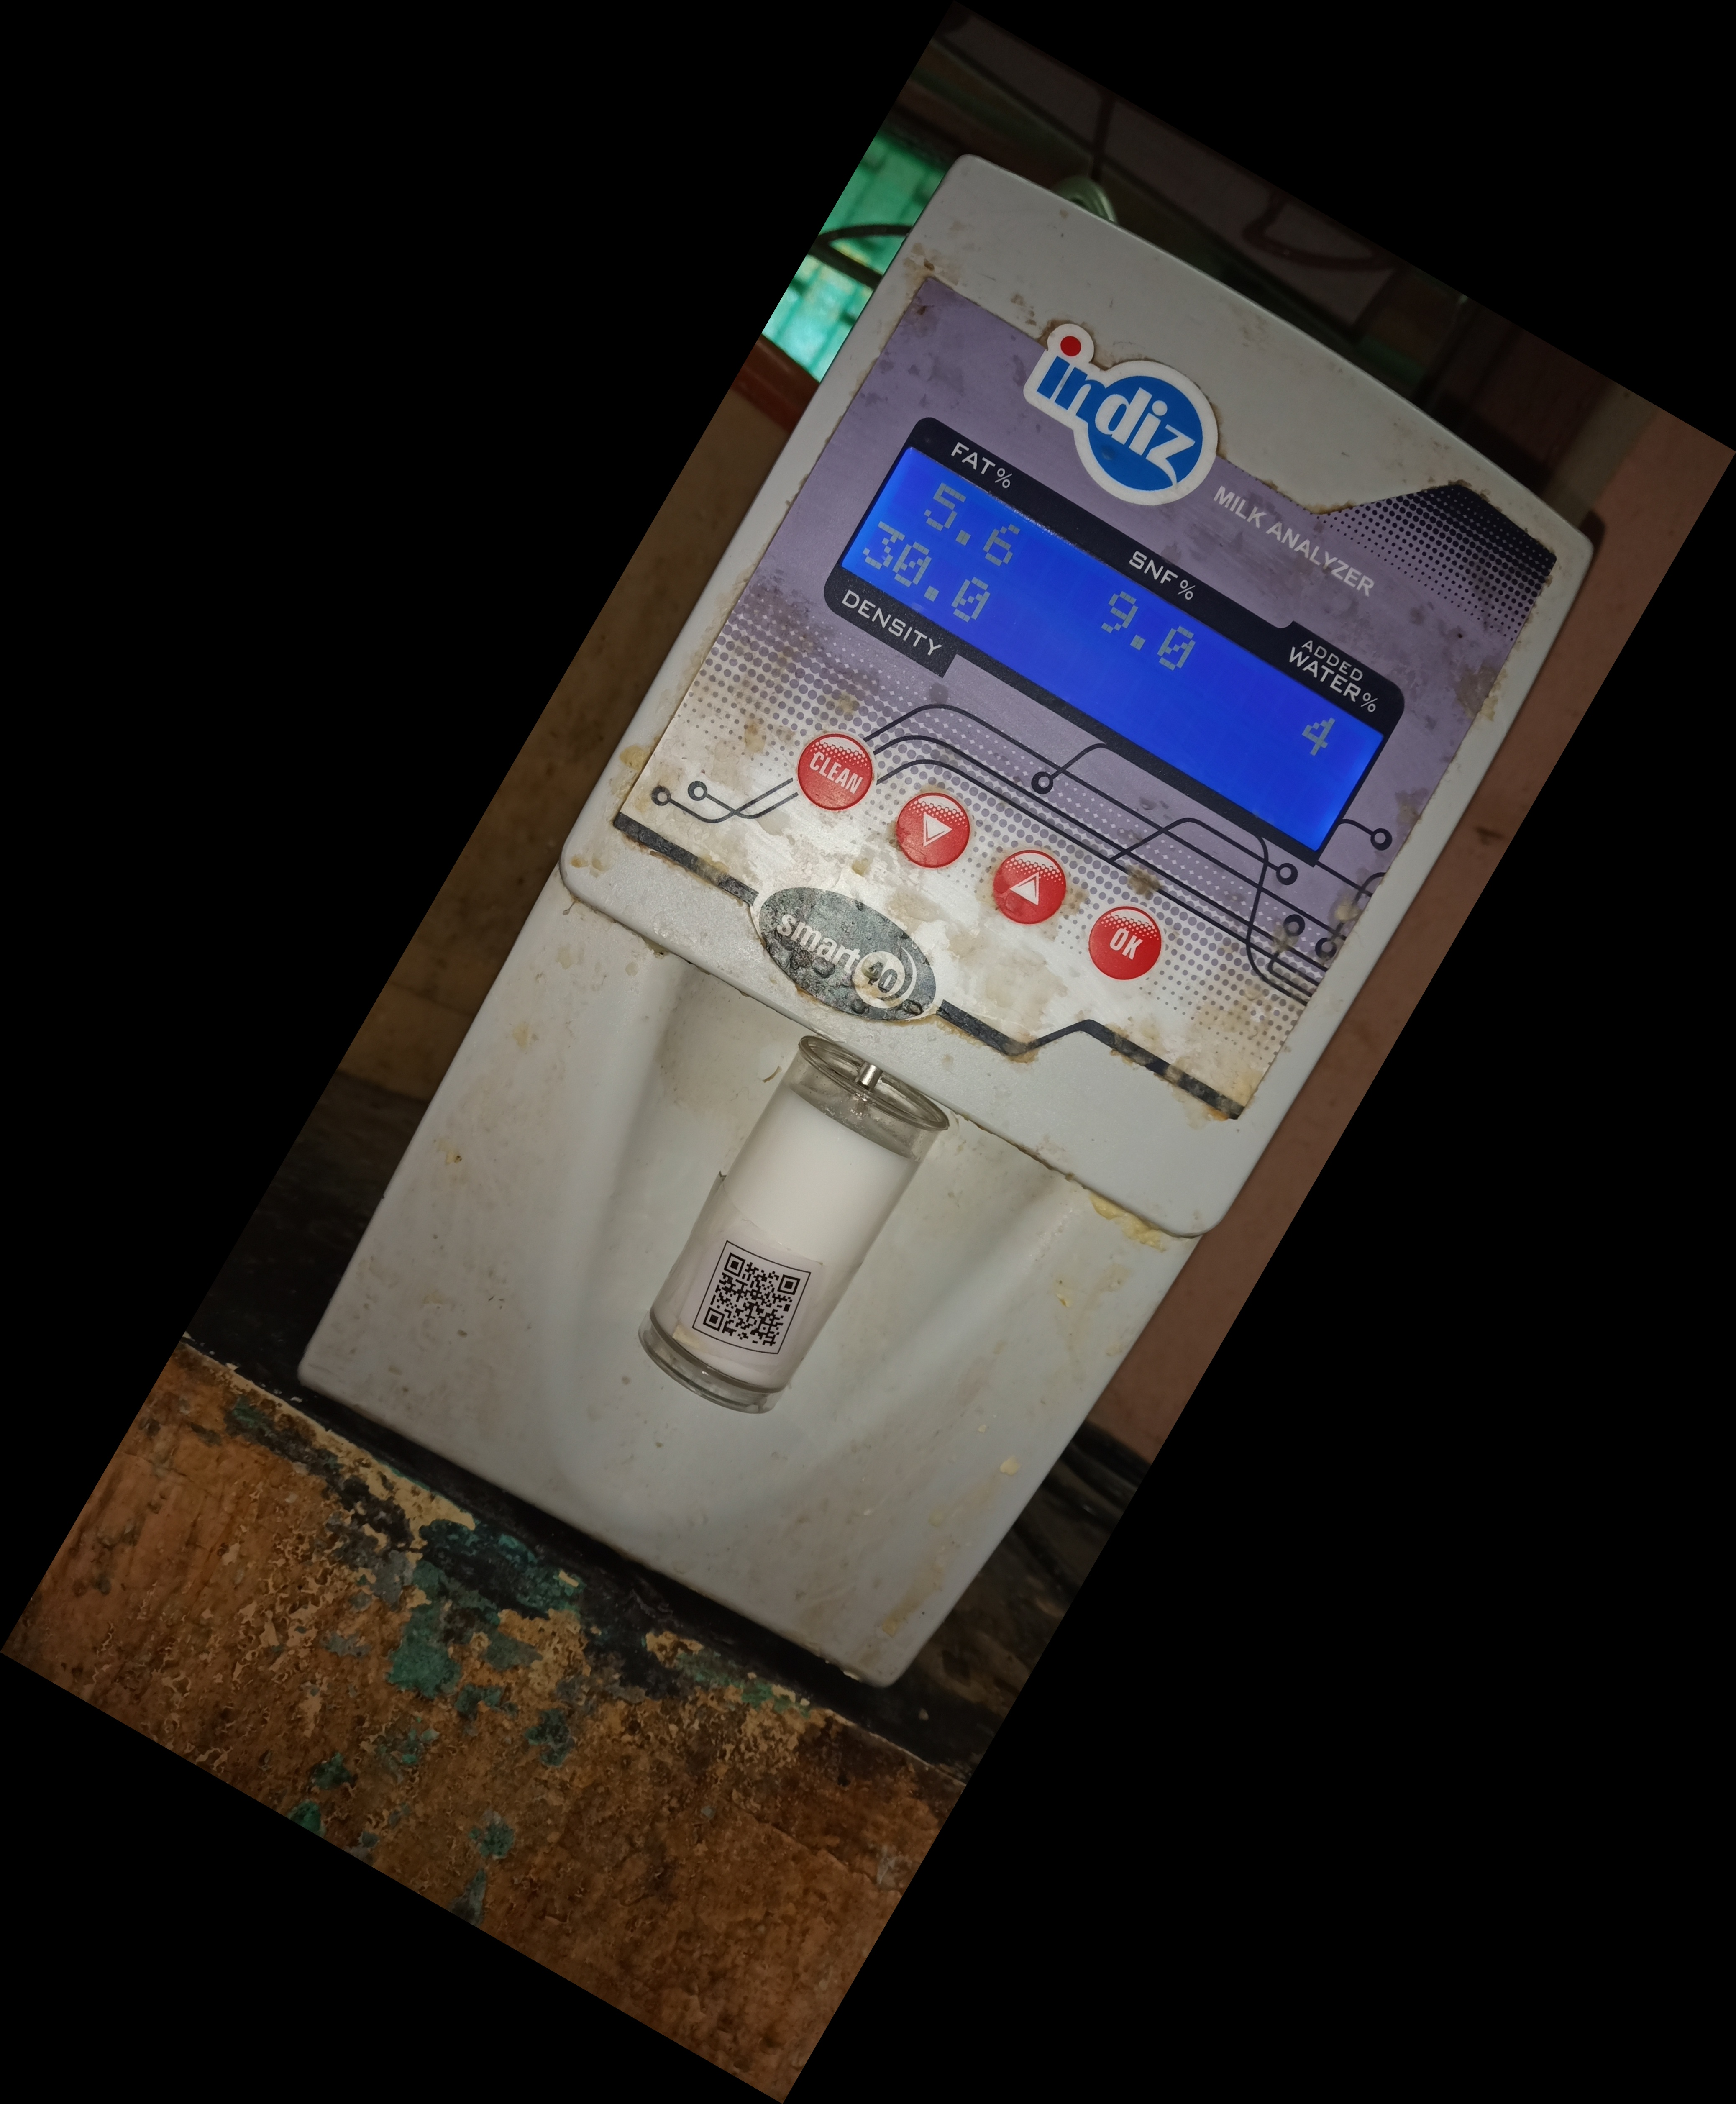lcd: (805, 414, 1429, 888)
qr: (676, 1239, 837, 1396)
